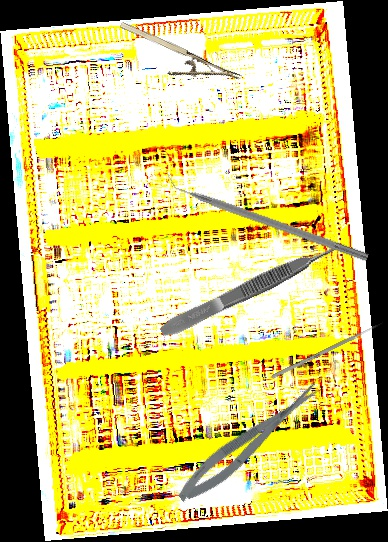Chopper: (160, 168, 373, 262)
Micro Scissor: (170, 376, 329, 510)
Needle Holder: (110, 18, 243, 104)
Pusher: (271, 321, 384, 379)
Tissue Forceps: (156, 239, 343, 341)
